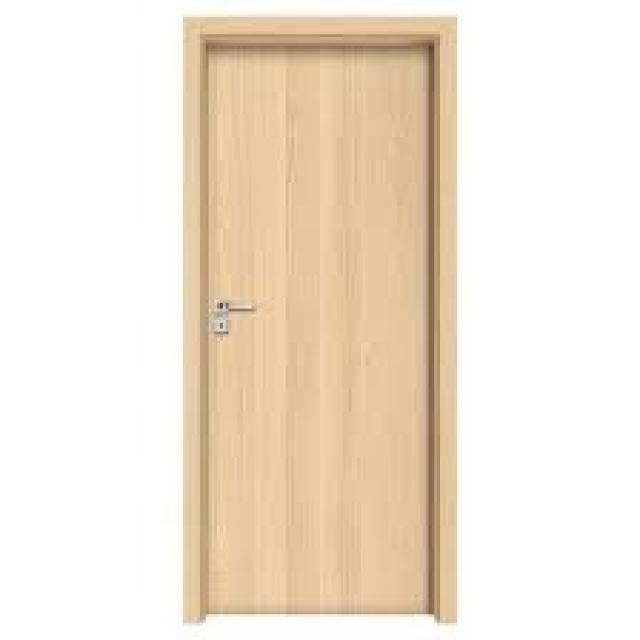Door: (180, 19, 449, 614)
